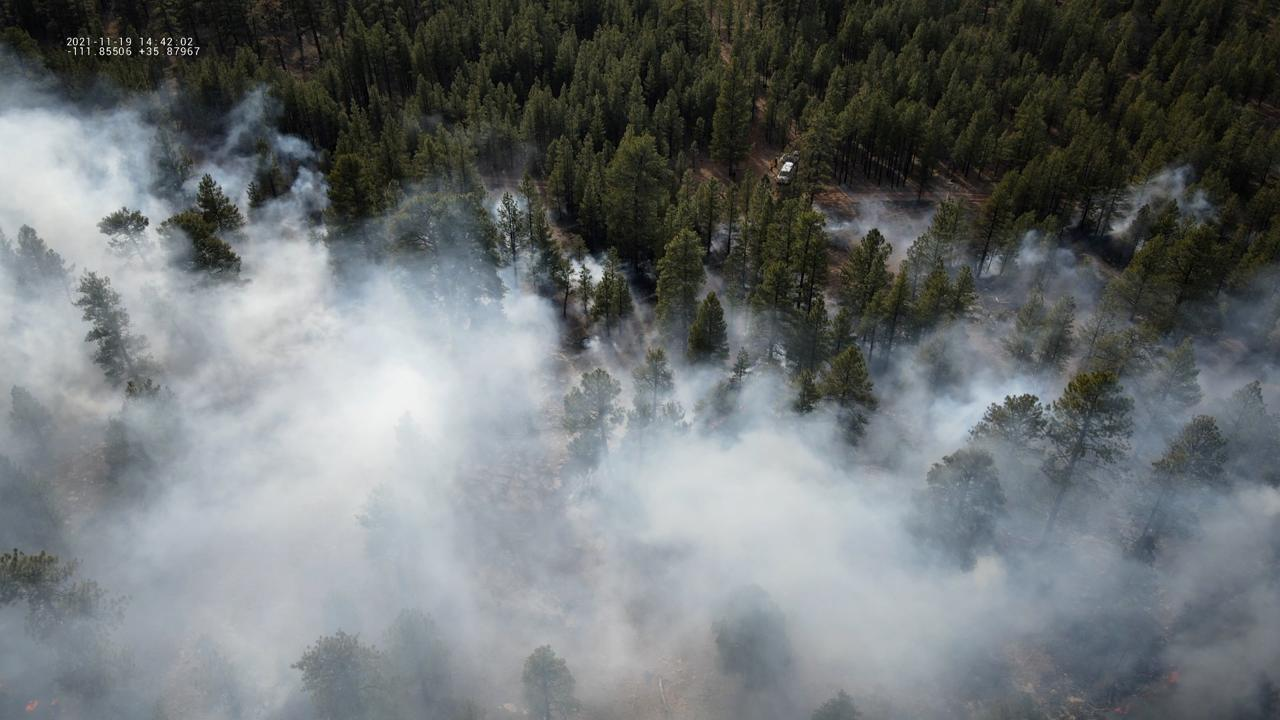fire: (26, 698, 40, 711), (1168, 671, 1180, 686), (1112, 706, 1124, 715), (50, 697, 60, 706)
smoke: (0, 43, 1280, 720)
